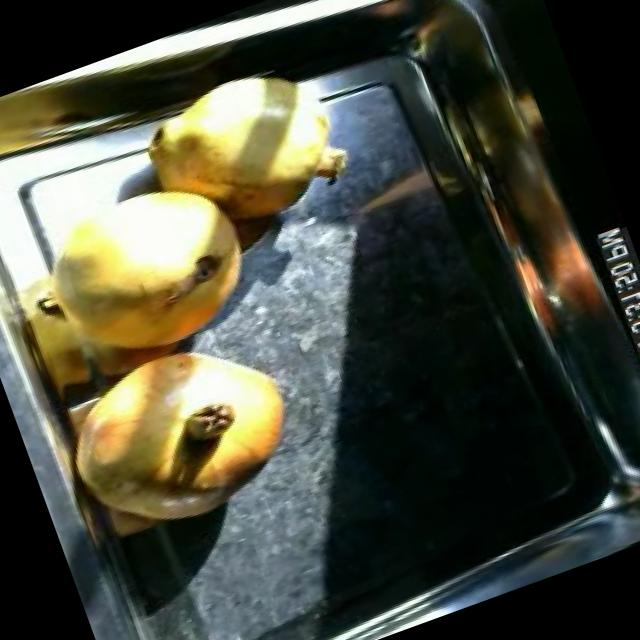fruit: (0, 149, 283, 397), (42, 307, 327, 553), (121, 46, 367, 264)
